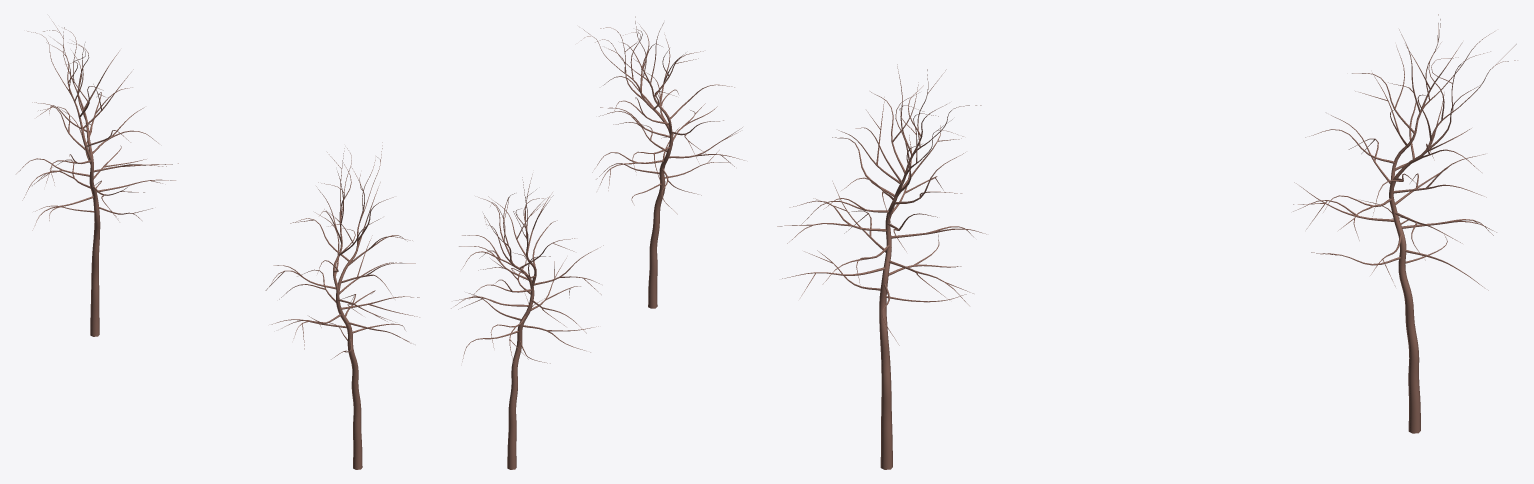
The model's file is Niwa_tree.fbx.
3 views of the same model, side by side, from view 1: azimuth 30°, elevation 25°; view 2: azimuth 150°, elevation 25°; view 3: azimuth 270°, elevation 25° (orthographic). The views are drawn at different scales.
Visible parts, largest first — view 1: 木1; view 2: 木1; view 3: 木1.
Boxes of the visible parts, <box> form: 木1: <box>16,21,419,469</box>; 木1: <box>451,16,744,469</box>; 木1: <box>777,14,1517,469</box>.
Bounding box in the file's own units: 26.12 × 41.12 × 68.7.
